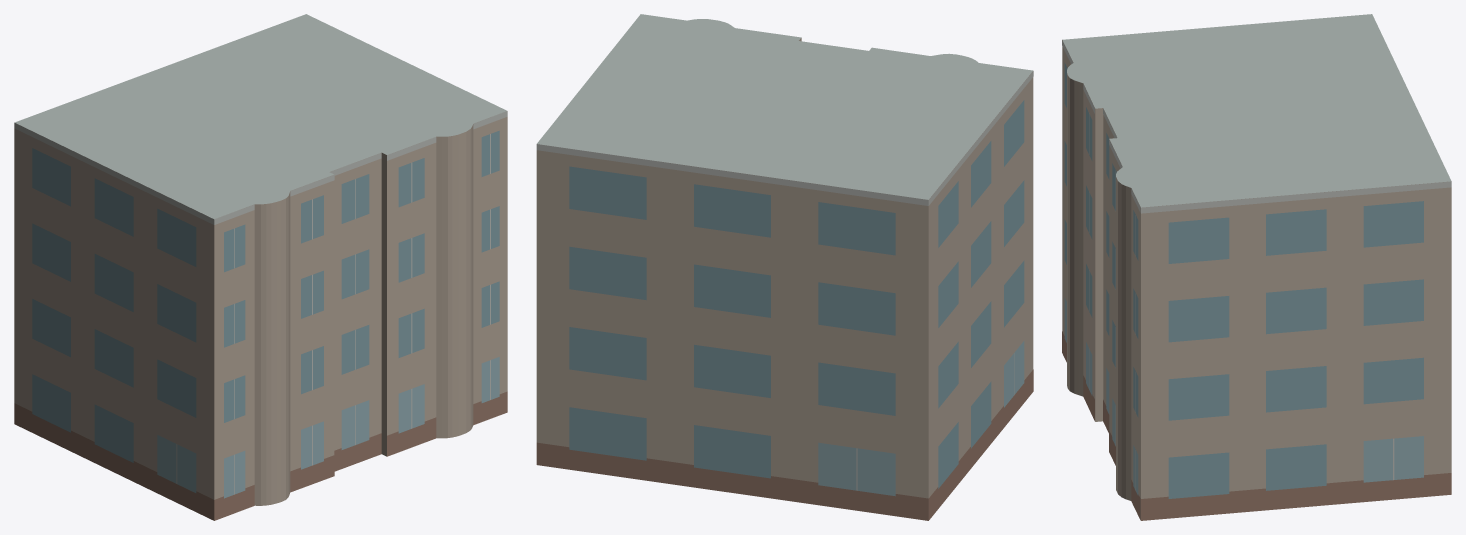
The model's file is survey-upis-32985888.glb.
3 views of the same model, side by side, from view 1: azimuth 30°, elevation 25°; view 2: azimuth 150°, elevation 25°; view 3: azimuth 270°, elevation 25° (orthographic). The views are drawn at different scales.
Visible parts, largest first — view 1: survey-upis-32985888.tmp; view 2: survey-upis-32985888.tmp; view 3: survey-upis-32985888.tmp.
Part boxes in pixels (x1,y1,x2,y2): survey-upis-32985888.tmp: [14, 14, 507, 520]; survey-upis-32985888.tmp: [536, 14, 1033, 520]; survey-upis-32985888.tmp: [1062, 14, 1451, 520].
Bounding box in the file's own units: 16.84 × 12.7 × 14.32.
